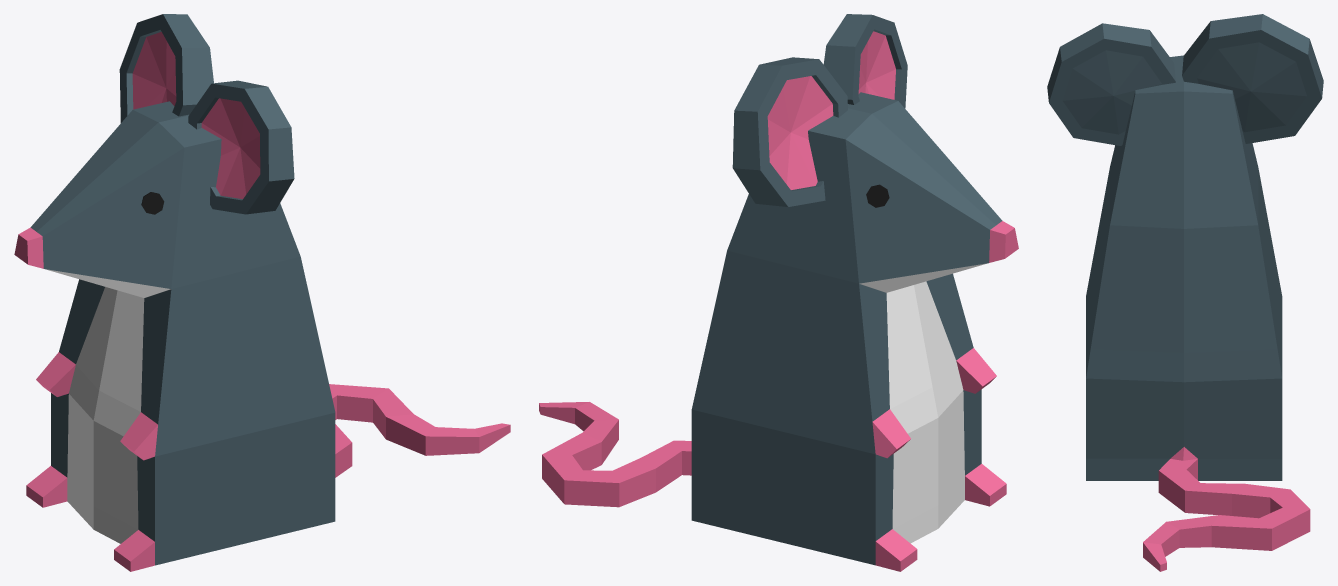
The model's file is mouse.glb.
3 renders of one model, left to right at view 1: azimuth 30°, elevation 25°; view 2: azimuth 150°, elevation 25°; view 3: azimuth 270°, elevation 25°, orthographic. The views are drawn at different scales.
Visible parts, largest first — view 1: node-0; view 2: node-0; view 3: node-0.
Part boxes in pixels (x1,y1,x2,y2): node-0: (14,14,510,571); node-0: (539,14,1018,571); node-0: (1047,14,1323,571).
Size of the model in its own units: 208 by 191 by 111.
